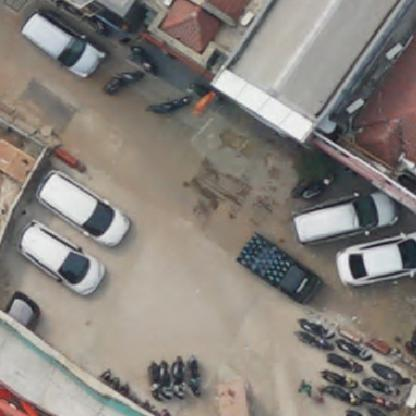Car: (33, 168, 130, 249), (17, 221, 108, 304), (22, 11, 107, 87), (240, 233, 321, 306), (292, 192, 398, 244), (336, 234, 415, 298), (3, 294, 42, 334)
Motorcycle: (148, 94, 192, 120), (370, 360, 413, 386), (336, 334, 372, 362), (292, 327, 330, 353), (320, 382, 358, 408), (320, 366, 360, 390), (184, 356, 208, 393), (128, 46, 159, 74), (328, 350, 364, 374), (359, 387, 396, 410), (297, 316, 335, 338), (362, 378, 400, 398), (171, 353, 188, 396), (104, 75, 140, 93), (158, 358, 172, 401), (150, 360, 162, 400)
